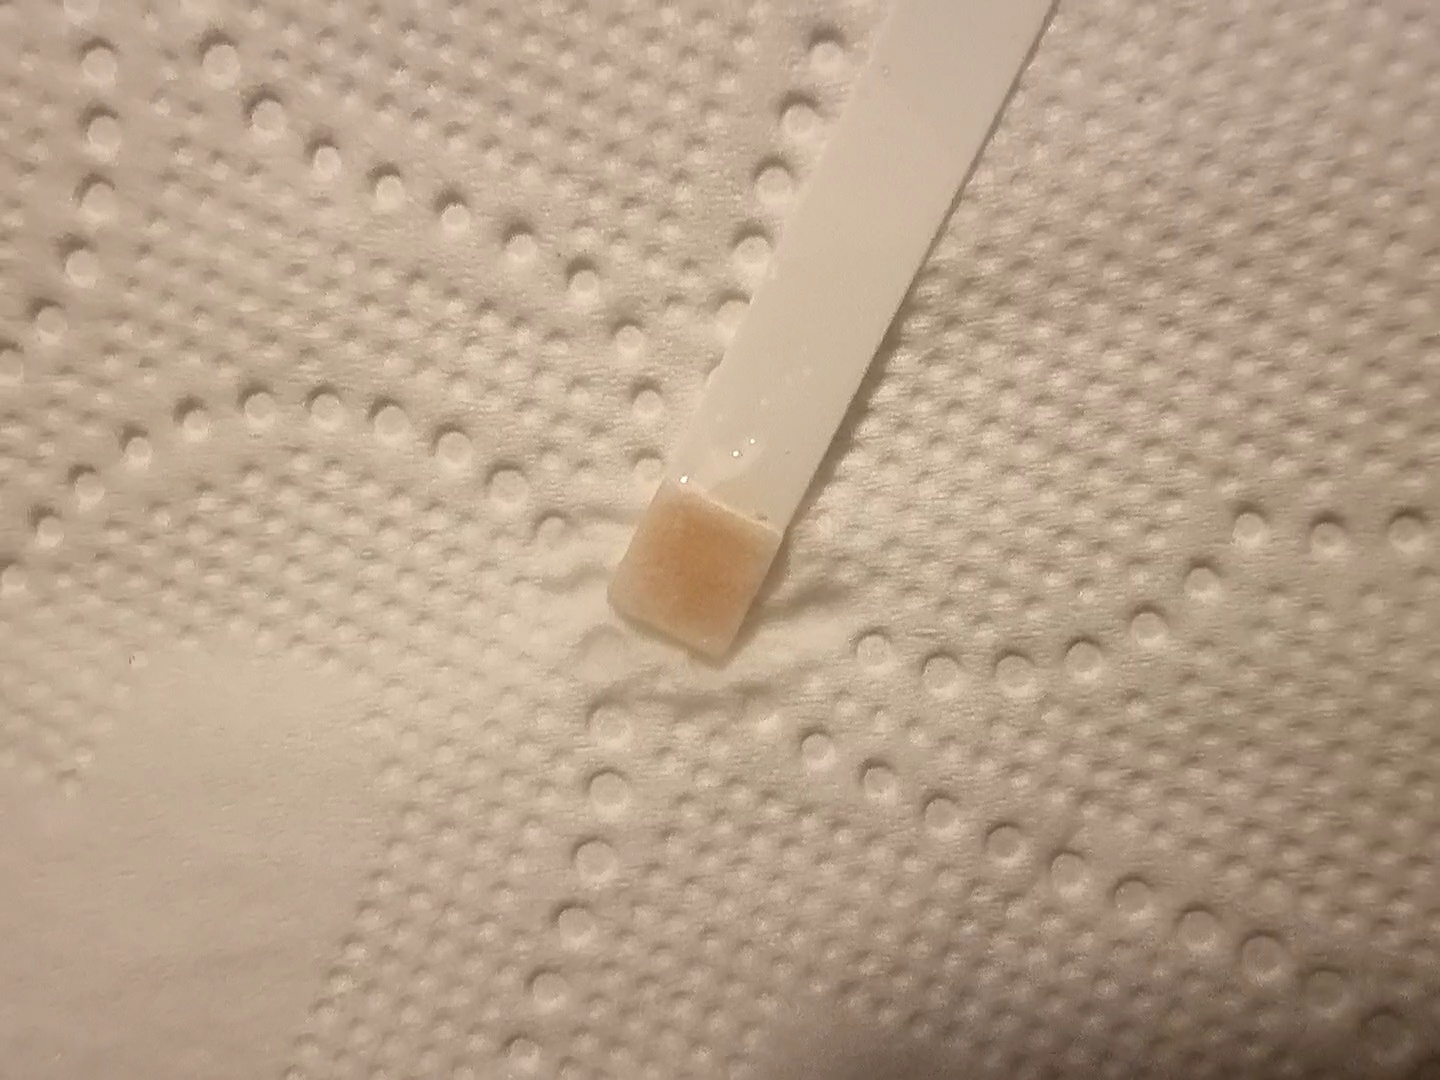keto-tip: (603, 472, 790, 667)
